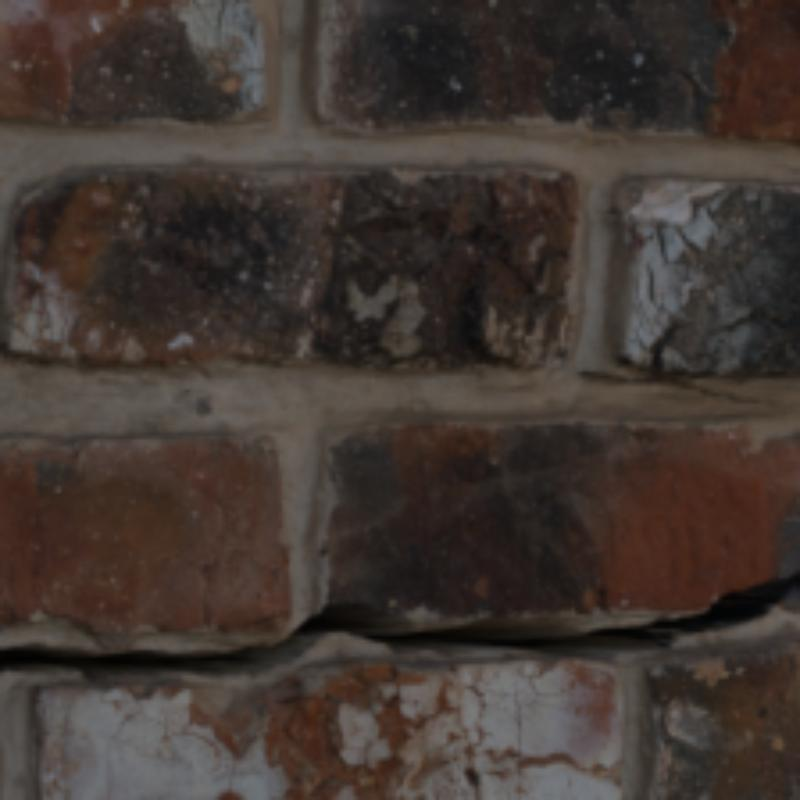pothole: (0, 568, 796, 679)
